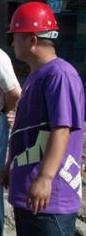hard-hat: (5, 1, 60, 34)
